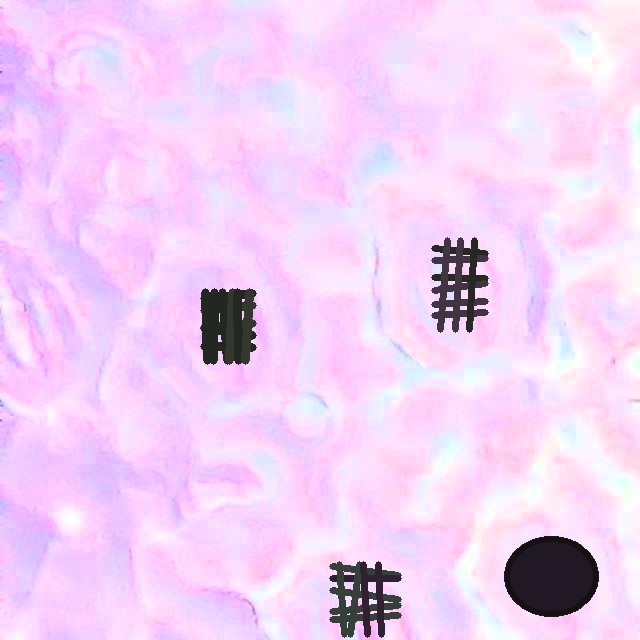close: (201, 289, 256, 364)
open: (504, 535, 598, 616), (431, 237, 488, 332), (330, 562, 400, 637)
